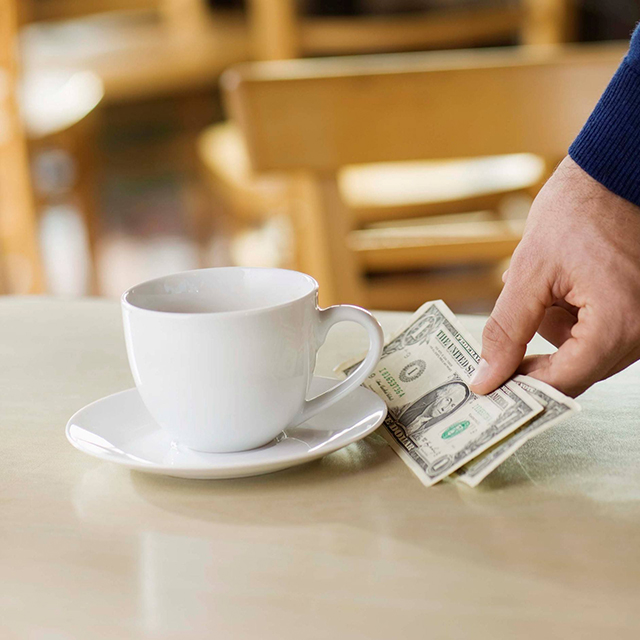banknotes: (339, 299, 577, 489)
